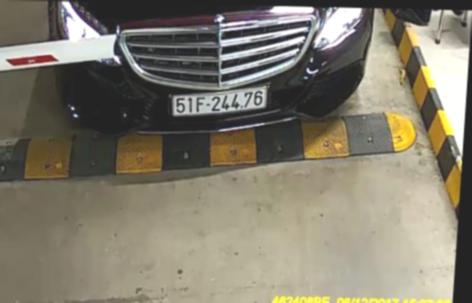License_Plate: (161, 86, 272, 119)
